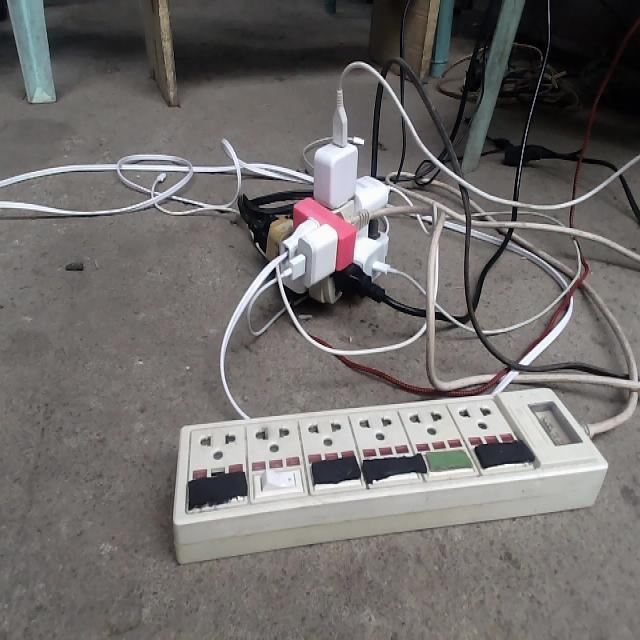-: (246, 128, 395, 307)
